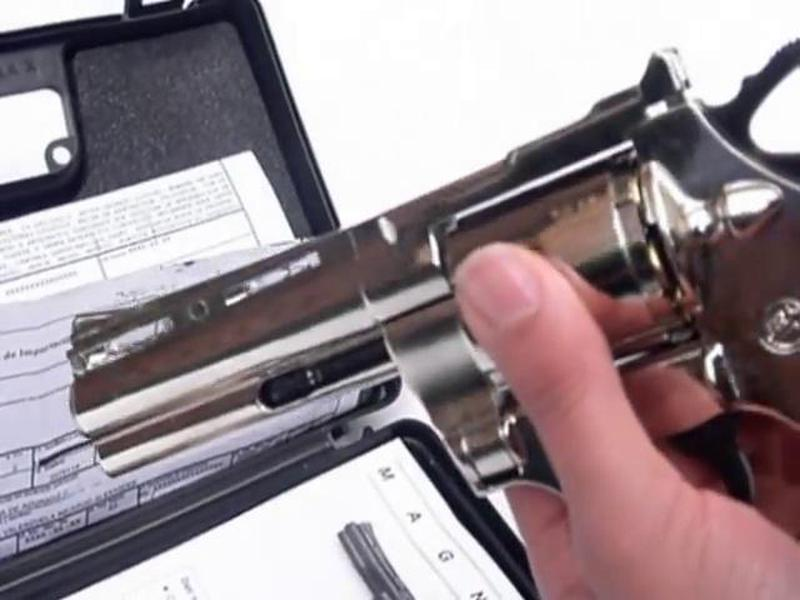Revolver: (59, 41, 800, 505)
